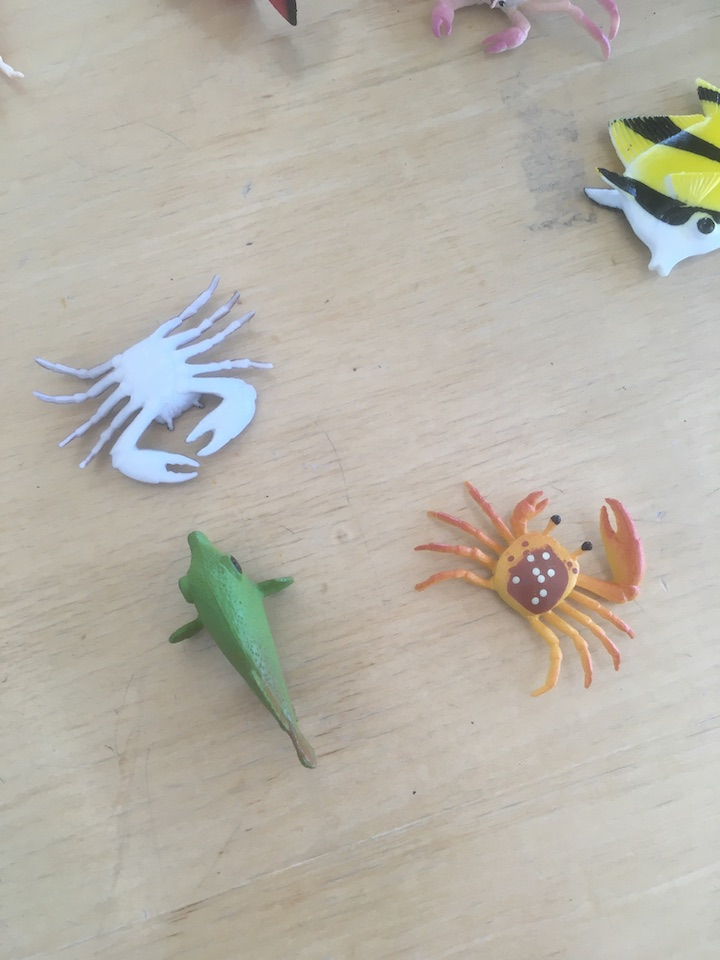crab: (410, 479, 650, 708), (36, 267, 278, 484), (428, 1, 628, 63)
danger: (580, 75, 720, 280)
fish: (165, 525, 324, 776)
